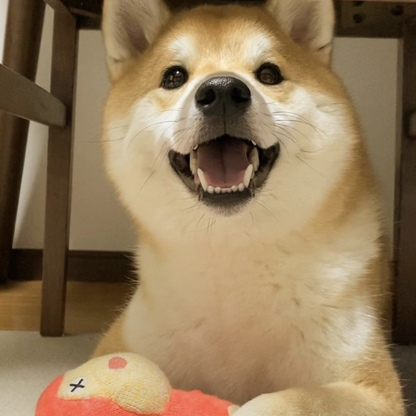shiba: (86, 1, 409, 416)
